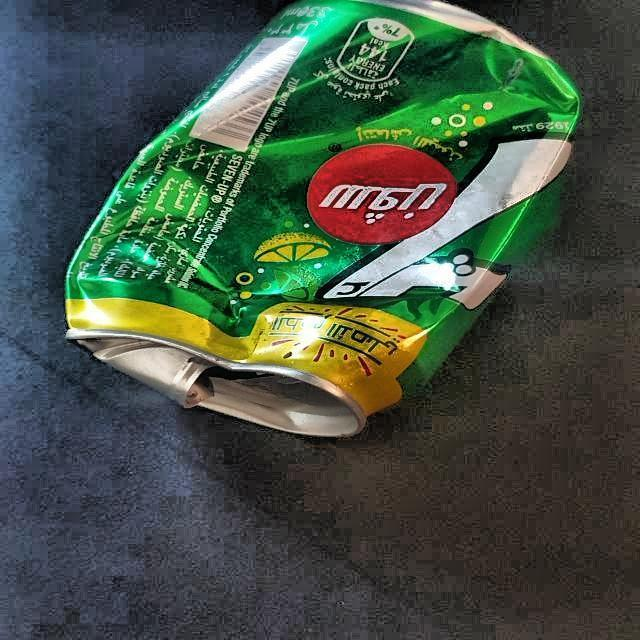metal: (65, 0, 581, 441)
